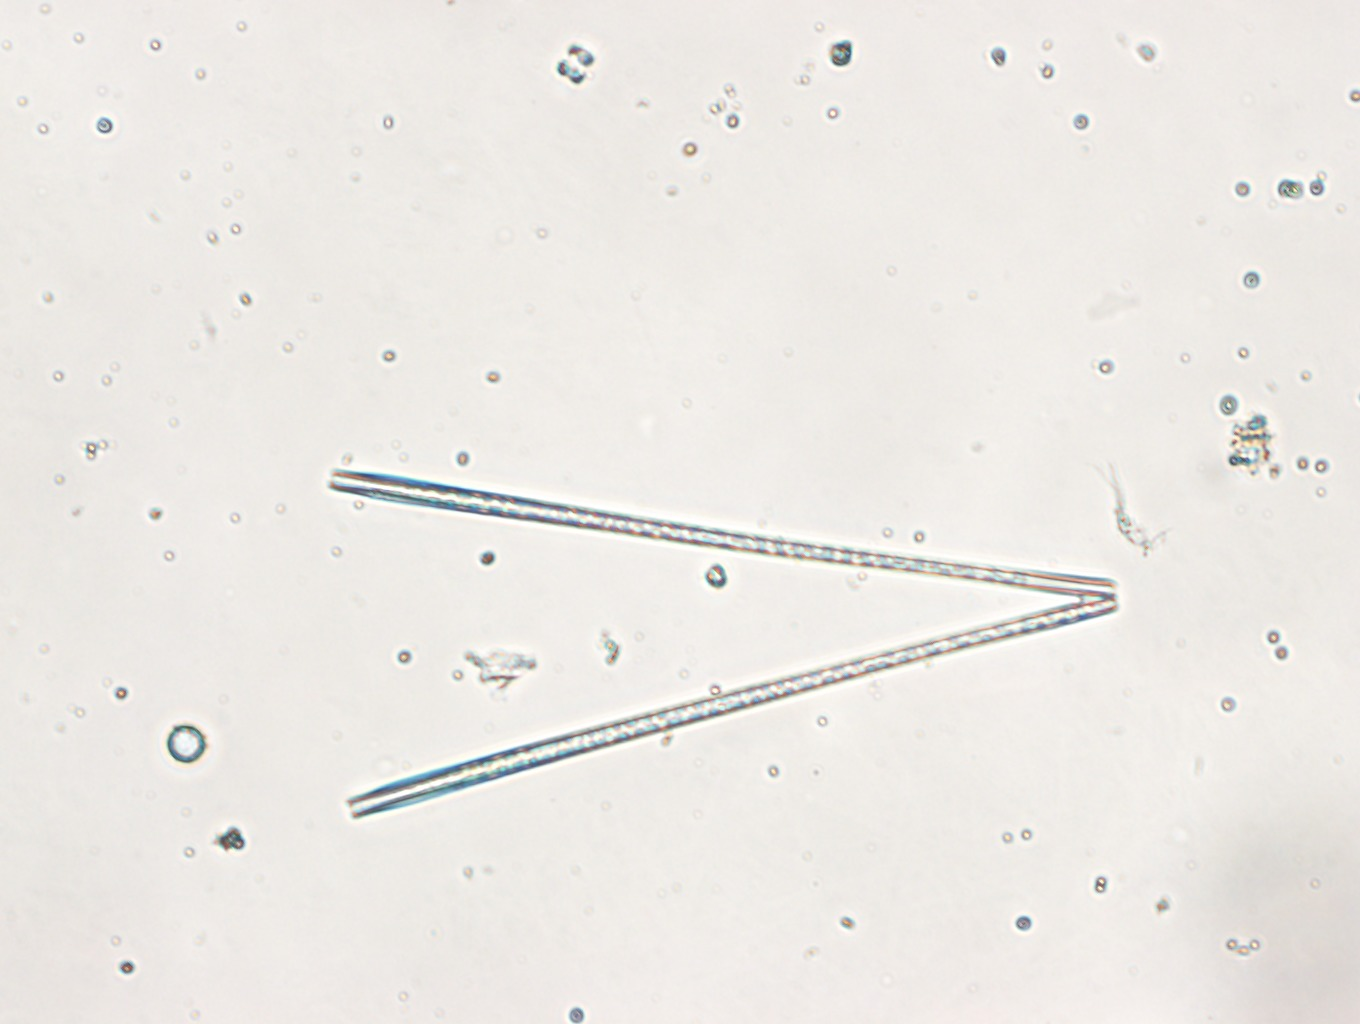thalassionema frauenfeldii: (324, 457, 1128, 824)
